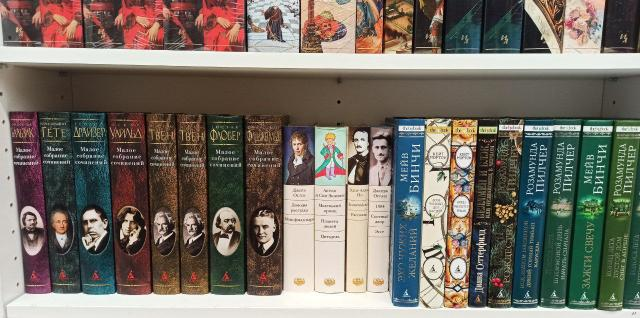book-s-spine: (568, 120, 613, 310), (70, 113, 115, 294), (539, 120, 582, 308), (598, 121, 640, 310), (108, 113, 151, 294), (513, 120, 554, 308), (39, 112, 81, 292), (10, 111, 51, 294), (487, 120, 524, 308), (207, 116, 244, 294), (246, 116, 282, 295), (444, 120, 478, 307), (147, 114, 180, 294), (420, 119, 451, 307), (394, 119, 425, 306), (177, 114, 209, 294), (469, 119, 499, 307), (315, 127, 346, 292), (284, 127, 314, 292), (367, 127, 393, 291), (347, 127, 370, 292), (623, 141, 640, 309)
